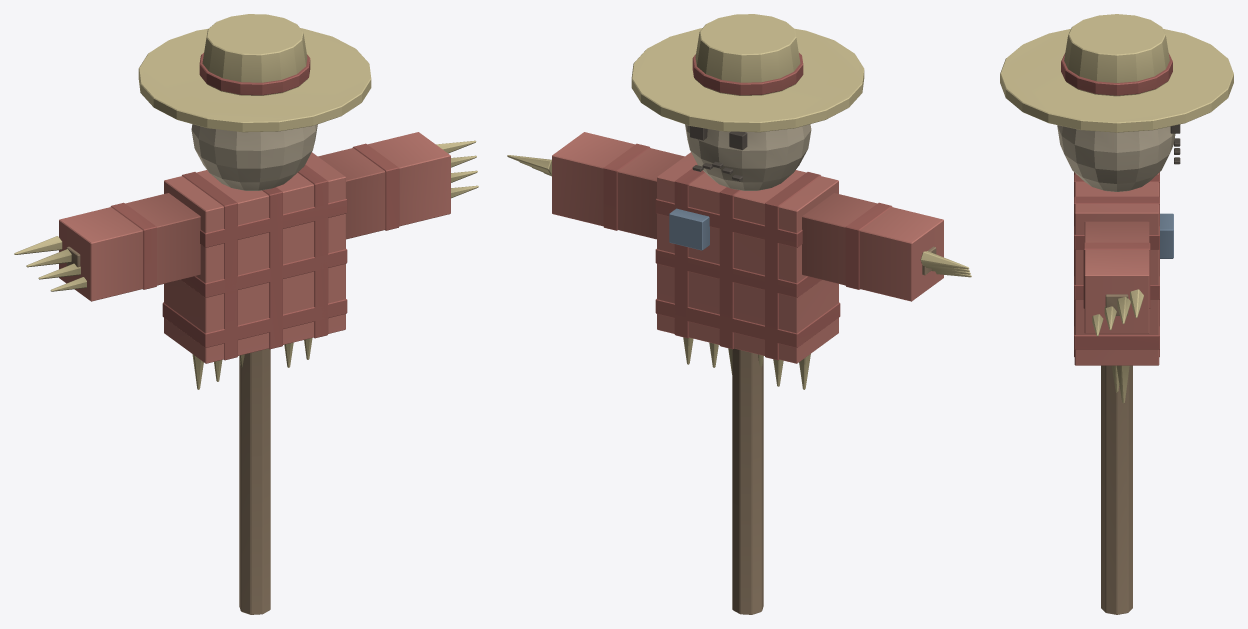
The model's file is farm_scarecrow.glb.
3 renders of one model, left to right at view 1: azimuth 30°, elevation 25°; view 2: azimuth 150°, elevation 25°; view 3: azimuth 270°, elevation 25°, orthographic.
Size of the model in its own units: 1.64 by 1.95 by 0.72.
